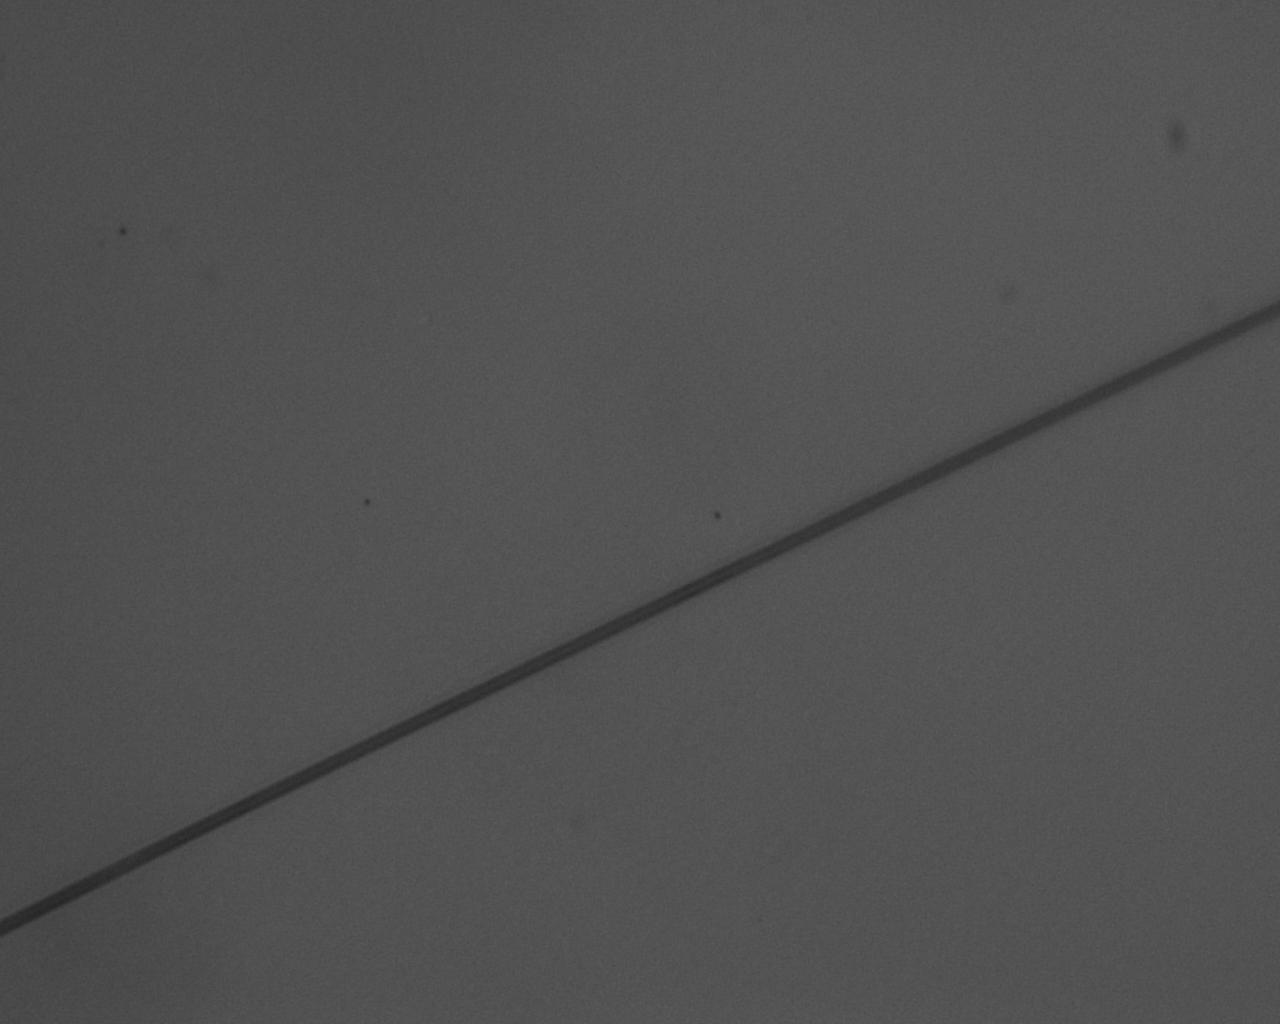fiber: (550, 599, 1280, 1024), (182, 0, 275, 337), (1093, 0, 1154, 337)
